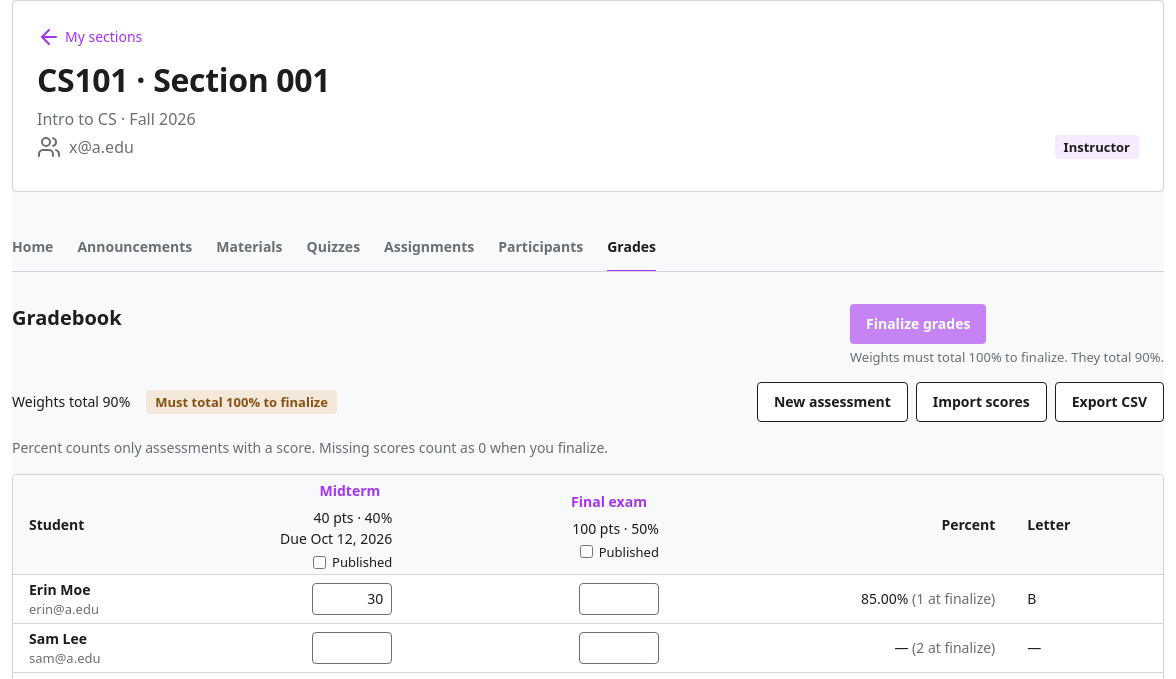
publish checkbox sends PATCH and reports
What coordinates should you click on to do the following:
click the checkbox named "Published Midterm"
I would click on:
 (320, 562)
Its box is [313,556,326,569].
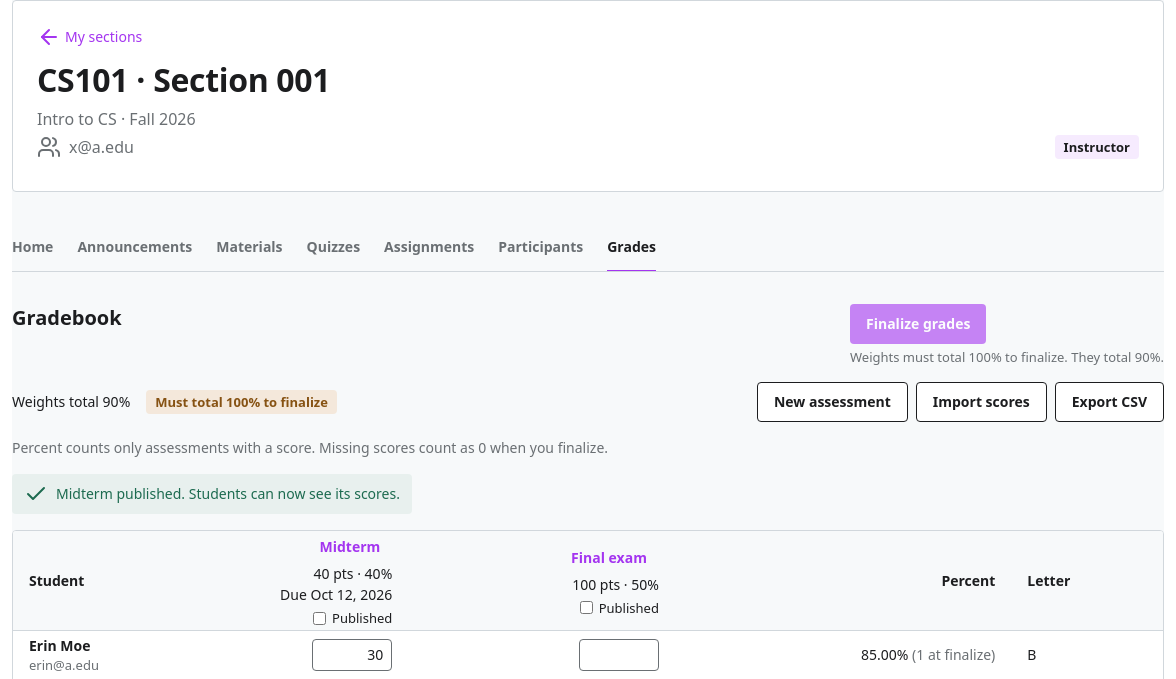
Check: the text "Midterm published. Students can now see its scores." is shown, box [12,474,412,514]
